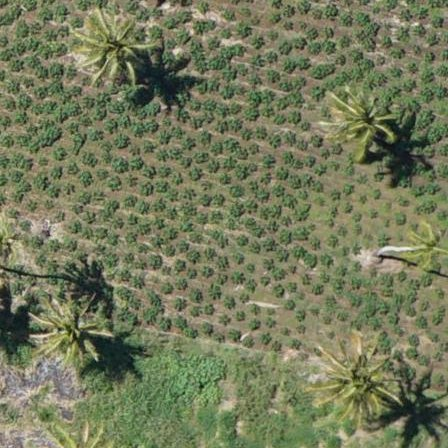palm_tree: (315, 340, 398, 411), (75, 9, 144, 83), (326, 91, 394, 158), (36, 305, 104, 370)
